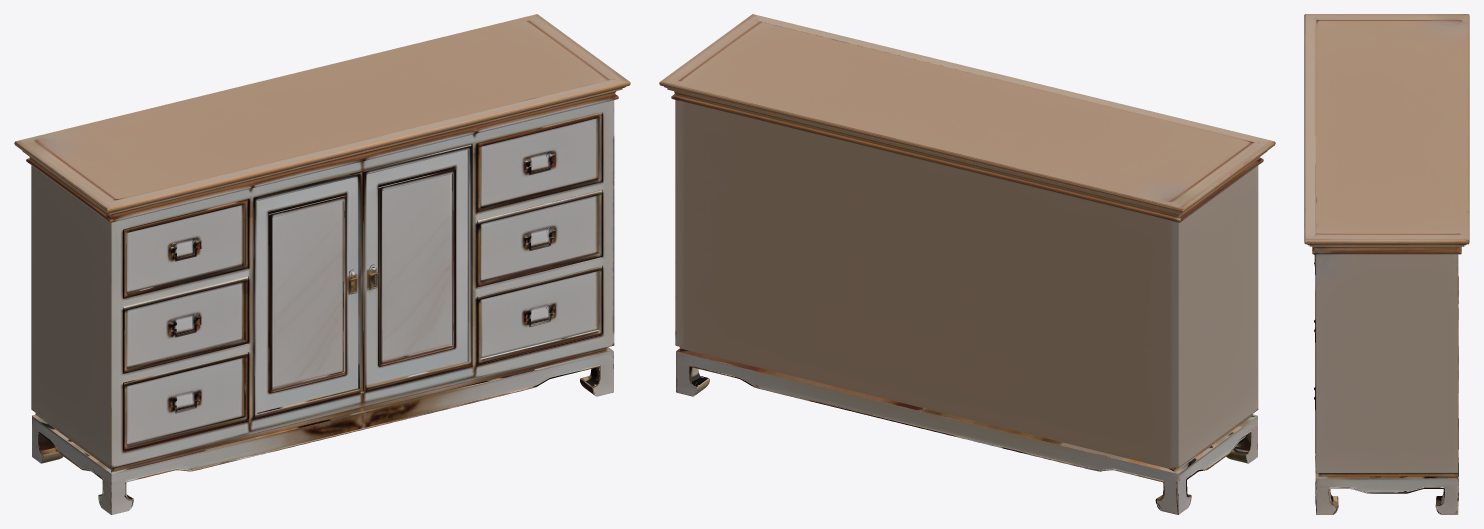
Rendered from edited_mesh.glb.
The picture shows the model from 3 angles, left to right: view 1: azimuth 30°, elevation 25°; view 2: azimuth 150°, elevation 25°; view 3: azimuth 270°, elevation 25°; orthographic projection. The views are drawn at different scales.
Parts seen in each view (by area): view 1: solid_001_wire; view 2: solid_001_wire; view 3: solid_001_wire.
Part boxes in pixels (x1=…): solid_001_wire: x1=14, y1=14, x2=630, y2=514; solid_001_wire: x1=659, y1=14, x2=1275, y2=514; solid_001_wire: x1=1304, y1=14, x2=1469, y2=514.
Size of the model in its own units: 1.86 by 1.07 by 0.5733.
Materials: 1 (1 with a texture image).
